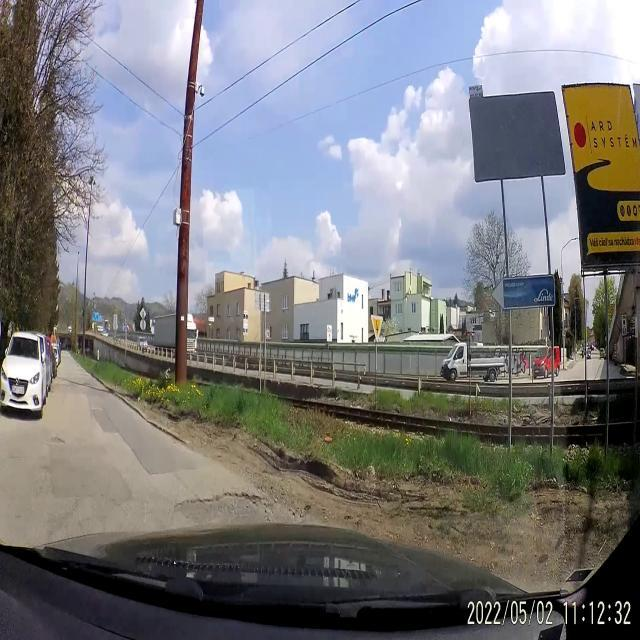Pothole: (163, 481, 271, 516), (280, 501, 316, 523), (48, 434, 69, 456)
